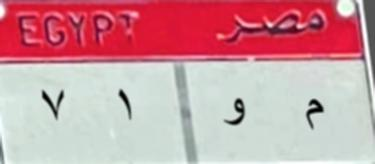1: (104, 82, 150, 126)
7: (34, 85, 78, 126)
meem: (297, 88, 328, 138)
waw: (223, 96, 252, 132)
